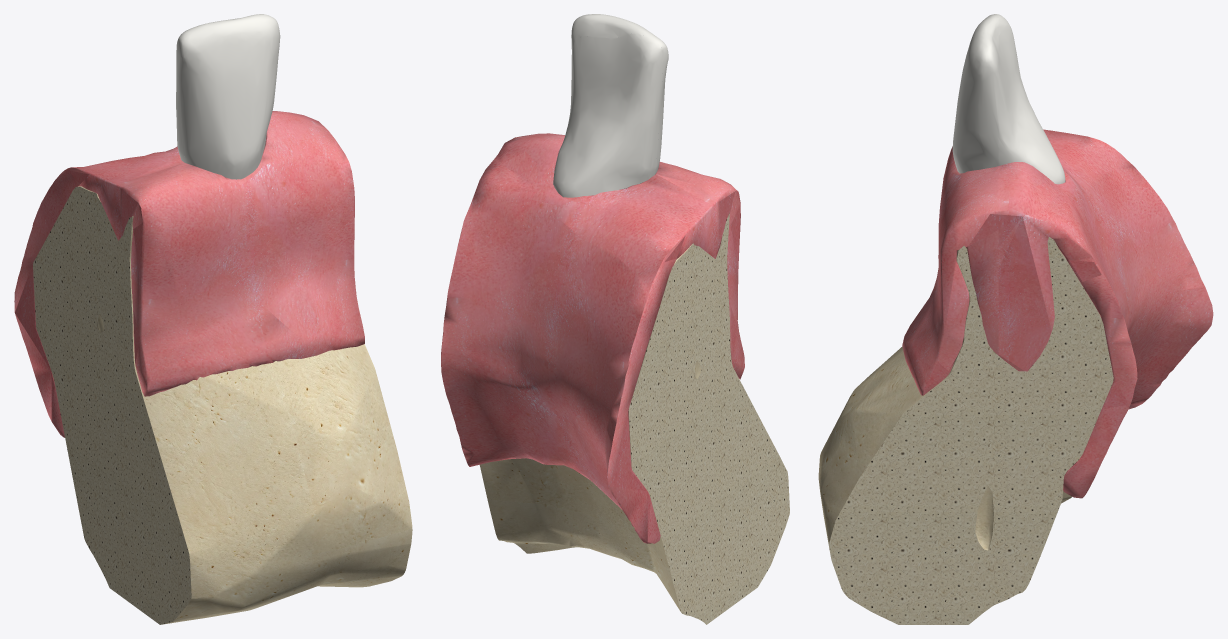
The picture shows the model from 3 angles, left to right: view 1: azimuth 30°, elevation 25°; view 2: azimuth 150°, elevation 25°; view 3: azimuth 270°, elevation 25°; orthographic projection. The views are drawn at different scales.
Visible parts, largest first — view 1: kompakta_b, gingiva_b, kompakta_a, schmelz_b, gingiva_a; view 2: gingiva_a, kompakta_a, schmelz_a, kompakta_b, gingiva_b, schmelz_b; view 3: kompakta_b, gingiva_a, kompakta_a, gingiva_b, schmelz_b, schmelz_a.
Boxes of the visible parts, x1=… form: kompakta_b: x1=122, y1=216, x2=412, y2=624; gingiva_b: x1=122, y1=123, x2=364, y2=396; kompakta_a: x1=33, y1=186, x2=121, y2=596; schmelz_b: x1=177, y1=14, x2=280, y2=179; gingiva_a: x1=14, y1=111, x2=324, y2=437; gingiva_a: x1=441, y1=134, x2=719, y2=543; kompakta_a: x1=479, y1=243, x2=719, y2=624; schmelz_a: x1=553, y1=34, x2=662, y2=197; kompakta_b: x1=513, y1=213, x2=789, y2=615; gingiva_b: x1=513, y1=133, x2=744, y2=379; schmelz_b: x1=571, y1=14, x2=668, y2=174; kompakta_b: x1=818, y1=246, x2=998, y2=624; gingiva_a: x1=998, y1=129, x2=1213, y2=498; kompakta_a: x1=998, y1=237, x2=1113, y2=602; gingiva_b: x1=902, y1=146, x2=998, y2=395; schmelz_b: x1=952, y1=14, x2=998, y2=173; schmelz_a: x1=998, y1=14, x2=1065, y2=184.
Bounding box in the file's own units: 0.0131 × 0.034 × 0.0222.
21 materials, 8 textured.
